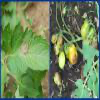Tomato leaf late blight: (2, 22, 49, 80)
